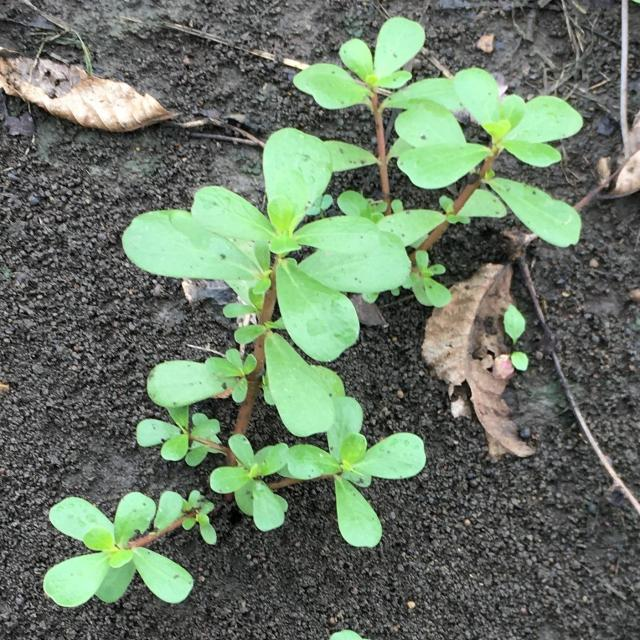Purslane: (43, 127, 427, 607), (293, 17, 584, 308)
